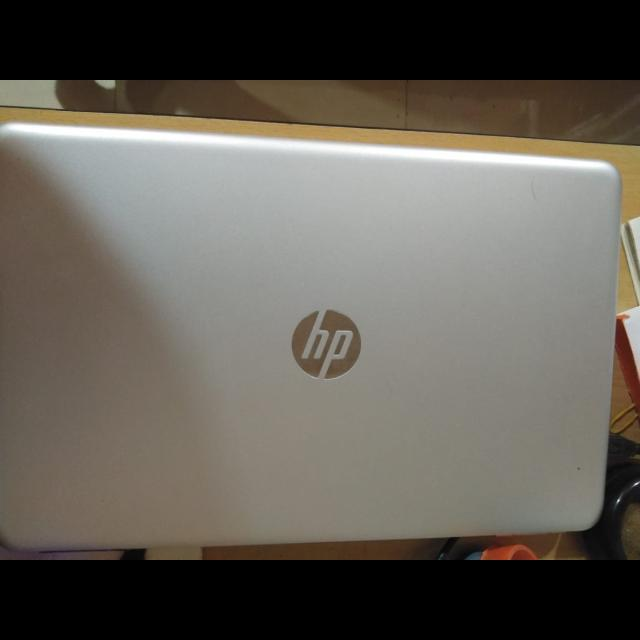Laptop: (0, 115, 628, 549)
